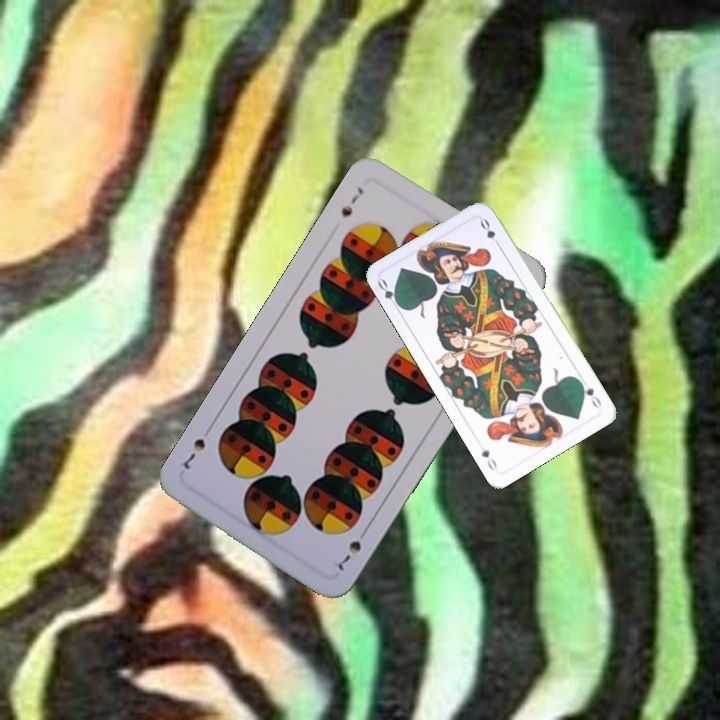GO: (373, 275, 404, 313), (575, 376, 604, 411)
S7: (334, 523, 371, 573), (337, 183, 366, 220)
